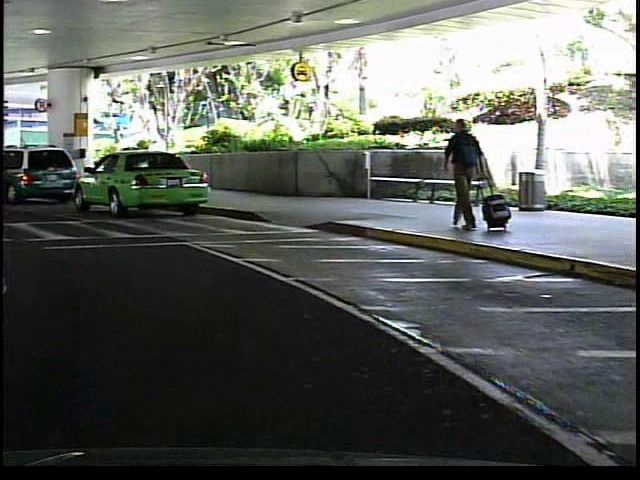person: (435, 113, 490, 242)
